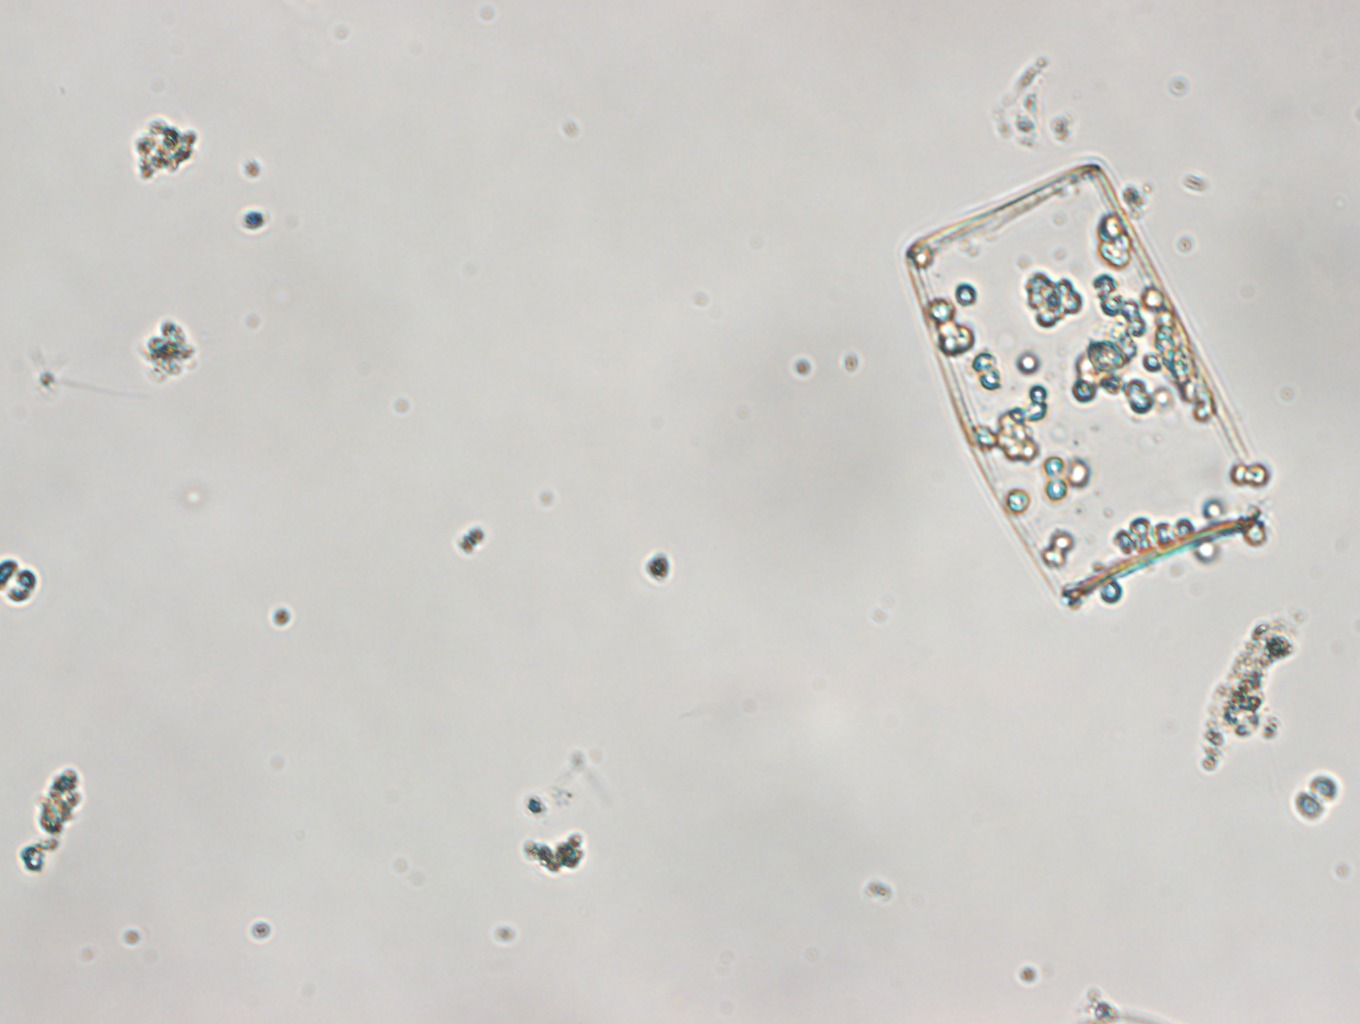guinardia flaccida: (906, 165, 1279, 602)
